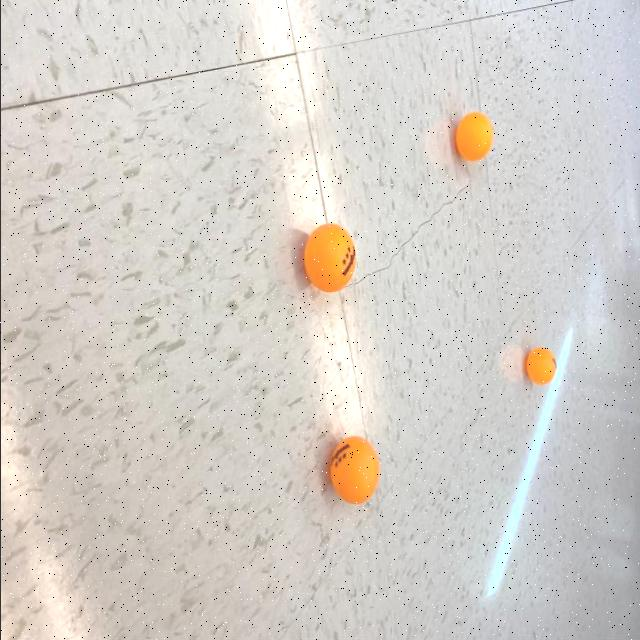ping-pong-ball: (301, 222, 359, 294), (328, 432, 382, 506), (454, 109, 494, 163), (522, 345, 558, 388)
